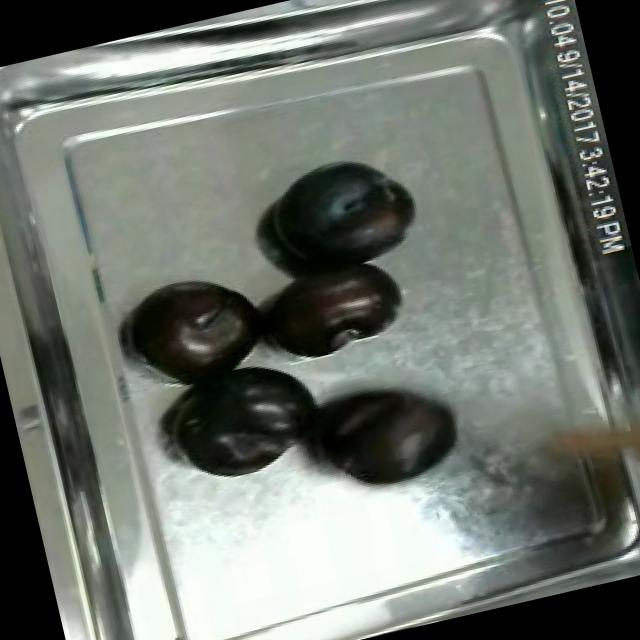Fruit: (156, 342, 334, 492), (253, 141, 428, 288), (302, 364, 475, 505), (246, 238, 420, 369), (117, 261, 270, 388)
